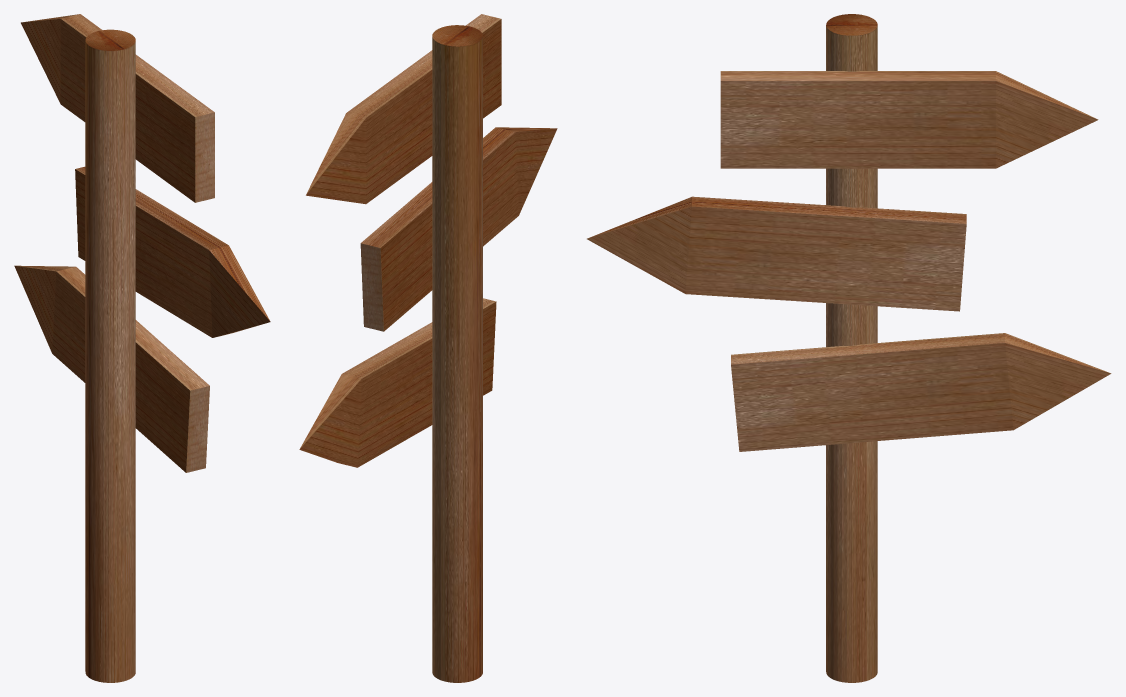
File: PanneauxWood.fbx
The picture shows the model from 3 angles, left to right: view 1: azimuth 30°, elevation 25°; view 2: azimuth 150°, elevation 25°; view 3: azimuth 270°, elevation 25°; orthographic projection. The views are drawn at different scales.
Visible parts, largest first — view 1: Cylinder, Sign3, Sign1, Sign2; view 2: Cylinder, Sign2, Sign1, Sign3; view 3: Sign2, Sign3, Sign1, Cylinder.
Part boxes in pixels (bbox=[...]): Cylinder: bbox=[85, 29, 135, 682]; Sign3: bbox=[14, 265, 209, 472]; Sign1: bbox=[21, 14, 214, 202]; Sign2: bbox=[75, 166, 270, 337]; Cylinder: bbox=[432, 25, 482, 682]; Sign2: bbox=[360, 127, 557, 331]; Sign1: bbox=[306, 14, 501, 204]; Sign3: bbox=[299, 298, 496, 467]; Sign2: bbox=[587, 196, 966, 311]; Sign3: bbox=[731, 333, 1111, 451]; Sign1: bbox=[720, 71, 1098, 168]; Cylinder: bbox=[826, 14, 877, 682].
Bounding box in the file's own units: 22.58 × 219 × 161.
